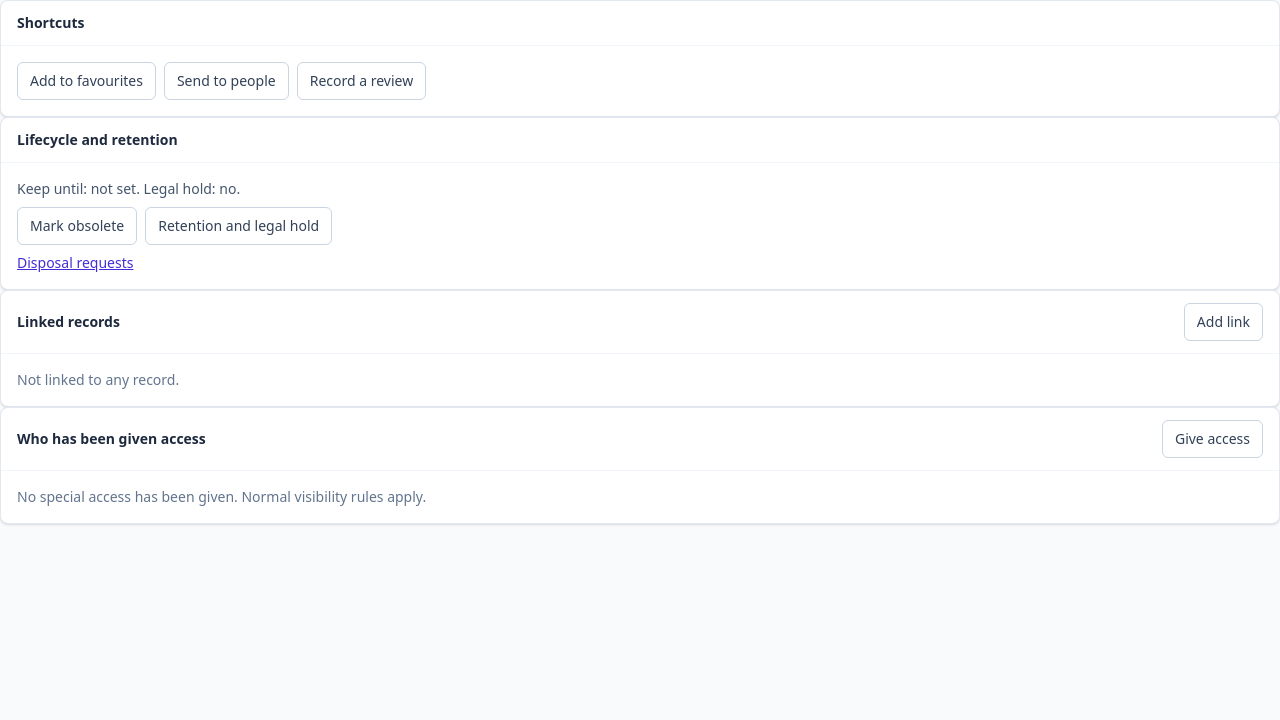
DocumentTools: links, review, sharing, access, shortcuts › sends the document to a role with an acknowledgement deadline
Click the button "Send to people". click: [226, 81]
box: [164,62,289,100]
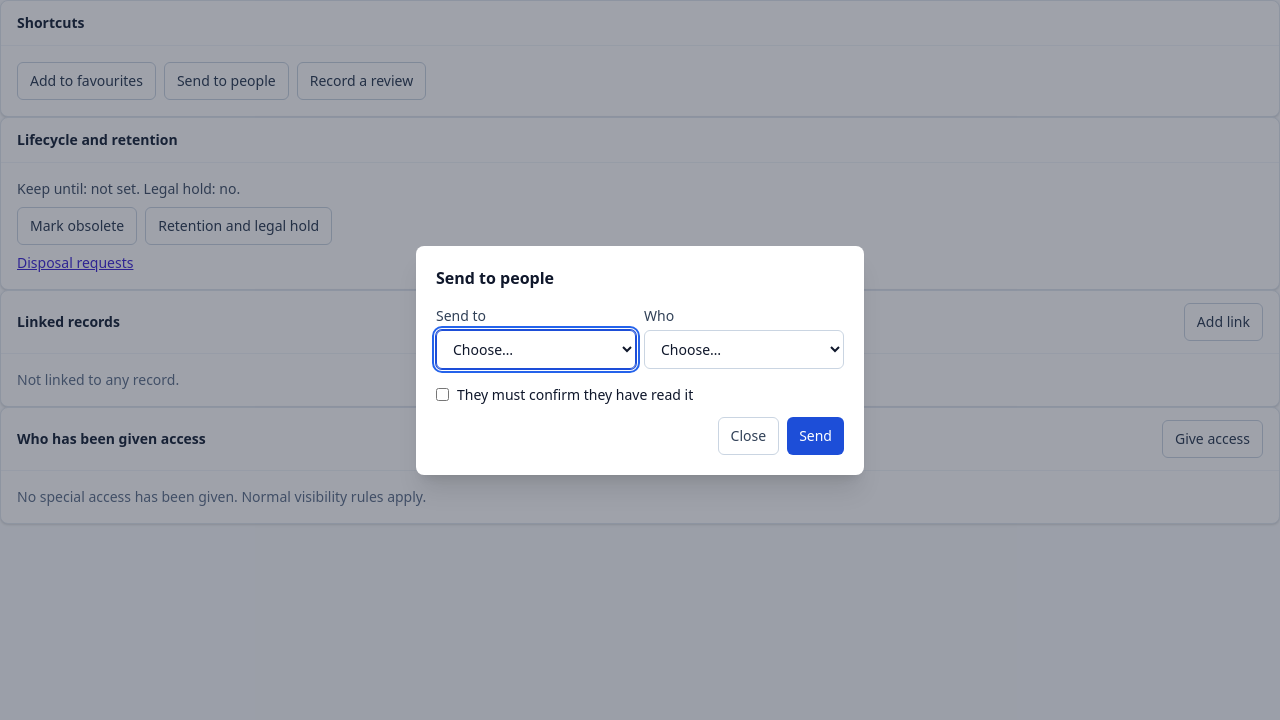
Click the button "Send". click: [816, 436]
box: [787,416,844,454]
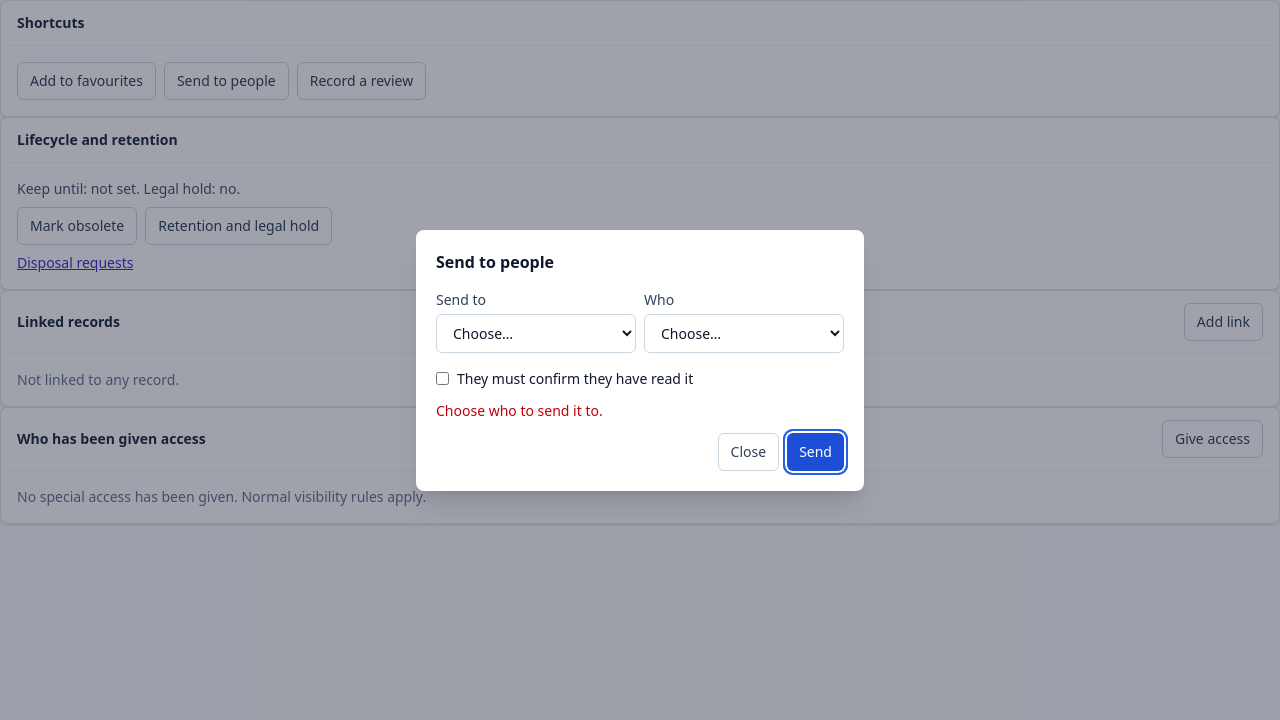
Result: the text "Choose who to send it to." is shown at [436,400,603,420]
Select "Everyone with a role" in the dropdown labelled "Send to". click: [536, 333]
box: [436,314,636,352]
Select "QA Manager" in the dropdown labelled "Who". click: [744, 333]
box: [644,314,844,352]
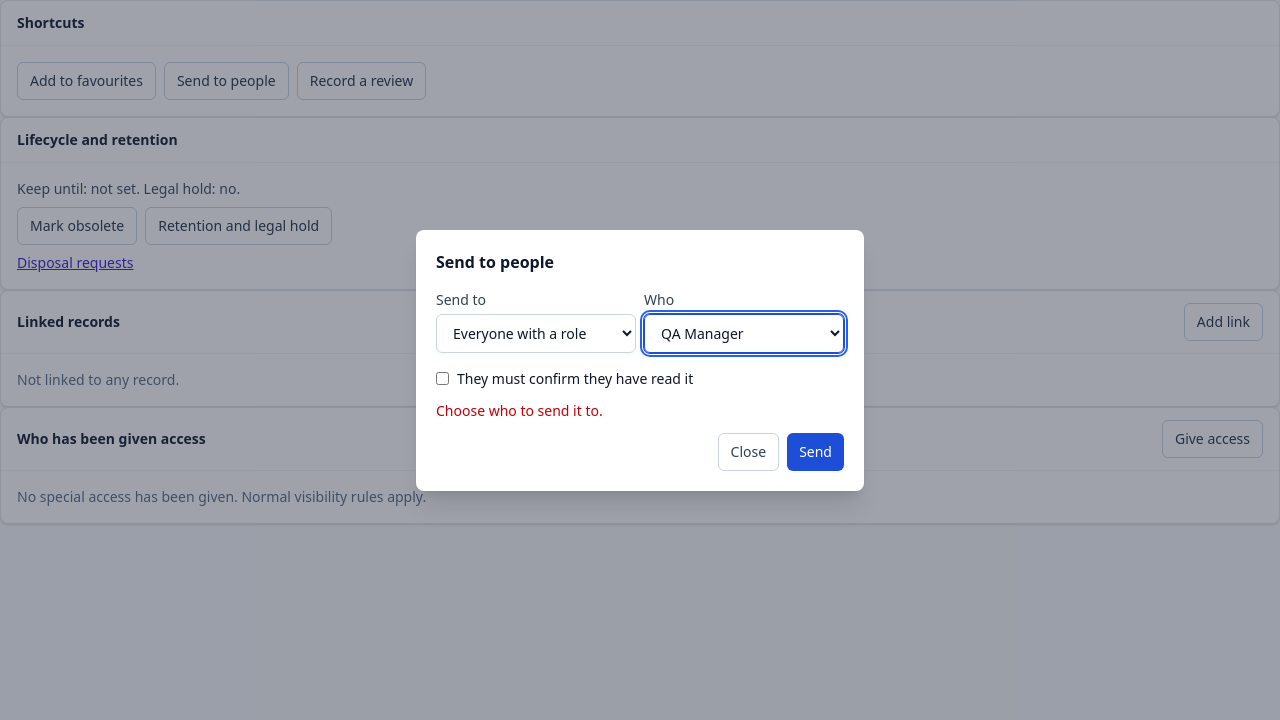
Click the checkbox labelled "They must confirm they have read it". click: [442, 378]
box: [436,372,449,385]
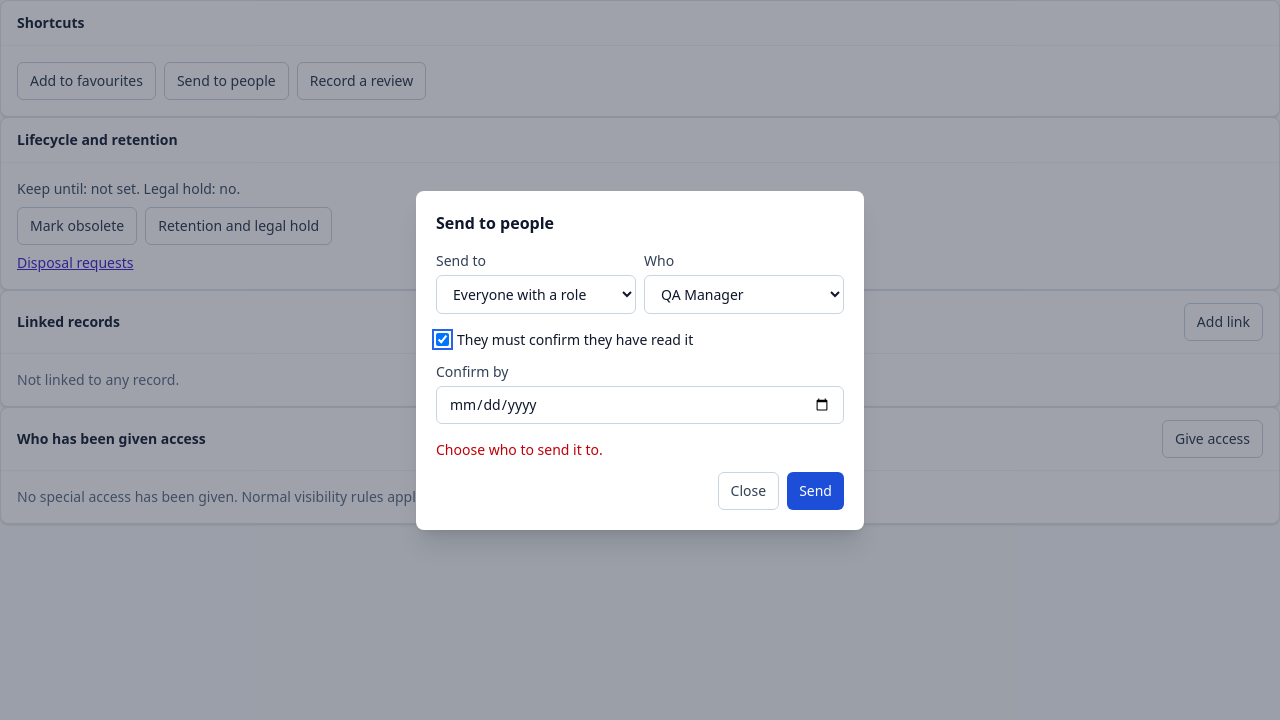
Type "2026-12-15" into the date field labelled "Confirm by". click: [640, 404]
box: [436,386,844,424]
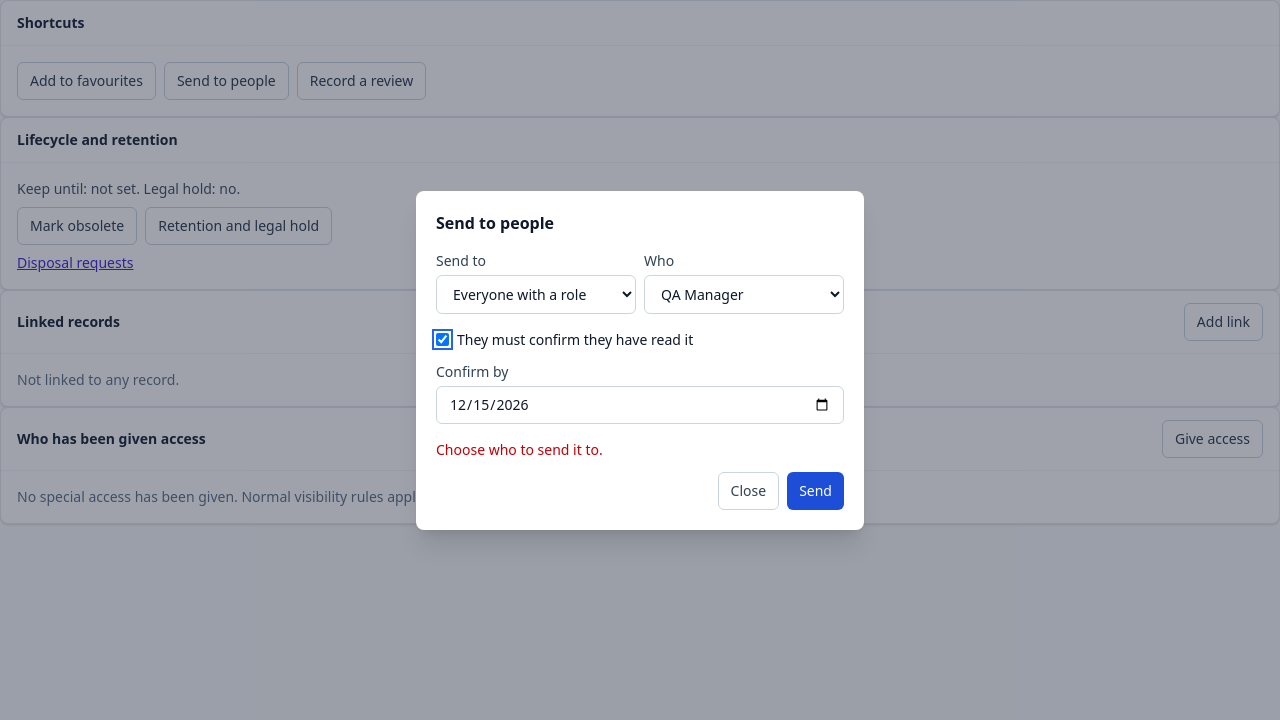
Click the button "Send". click: [816, 490]
box: [787,472,844,510]
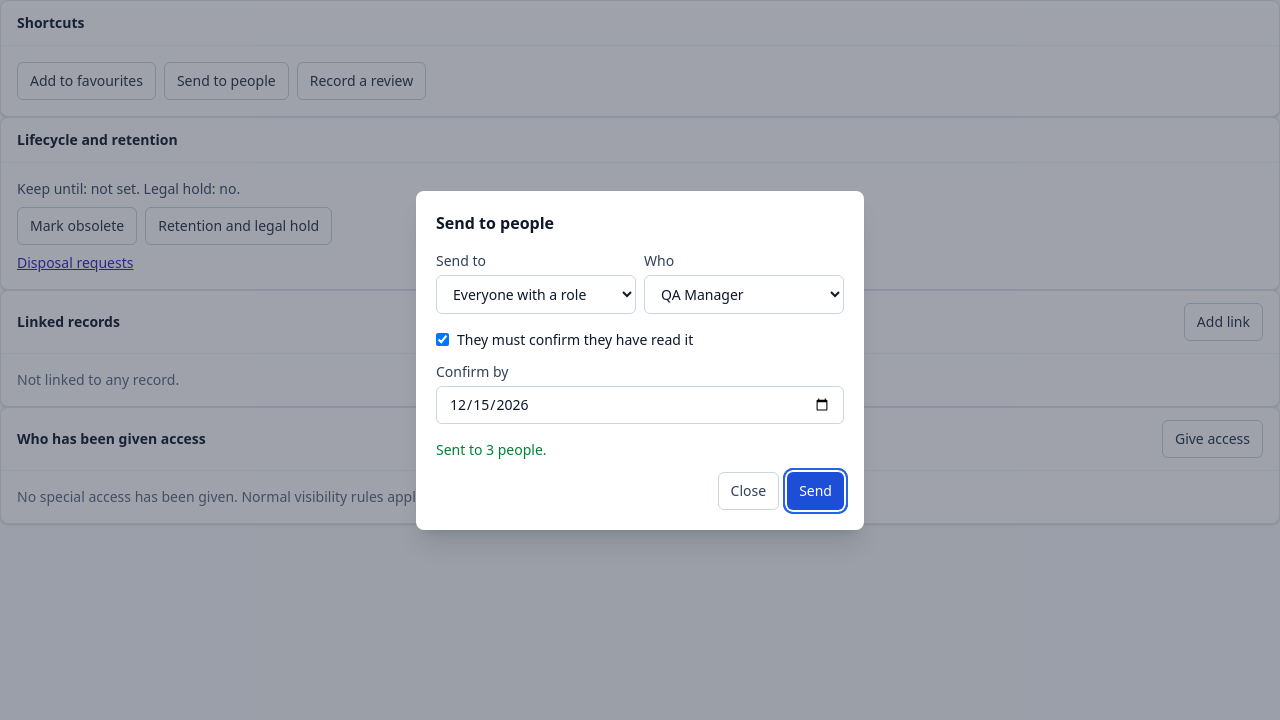
Result: the text "Sent to 3 people." is shown at [436,440,547,458]
